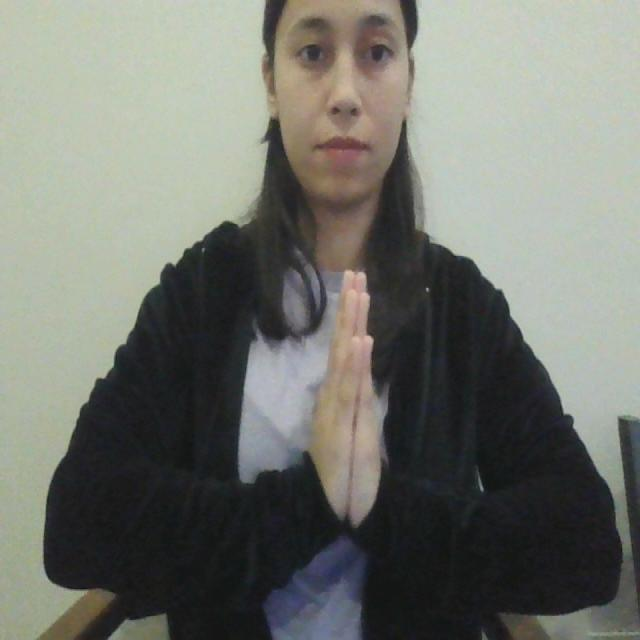Ozur-Dilemek: (307, 265, 391, 540)
